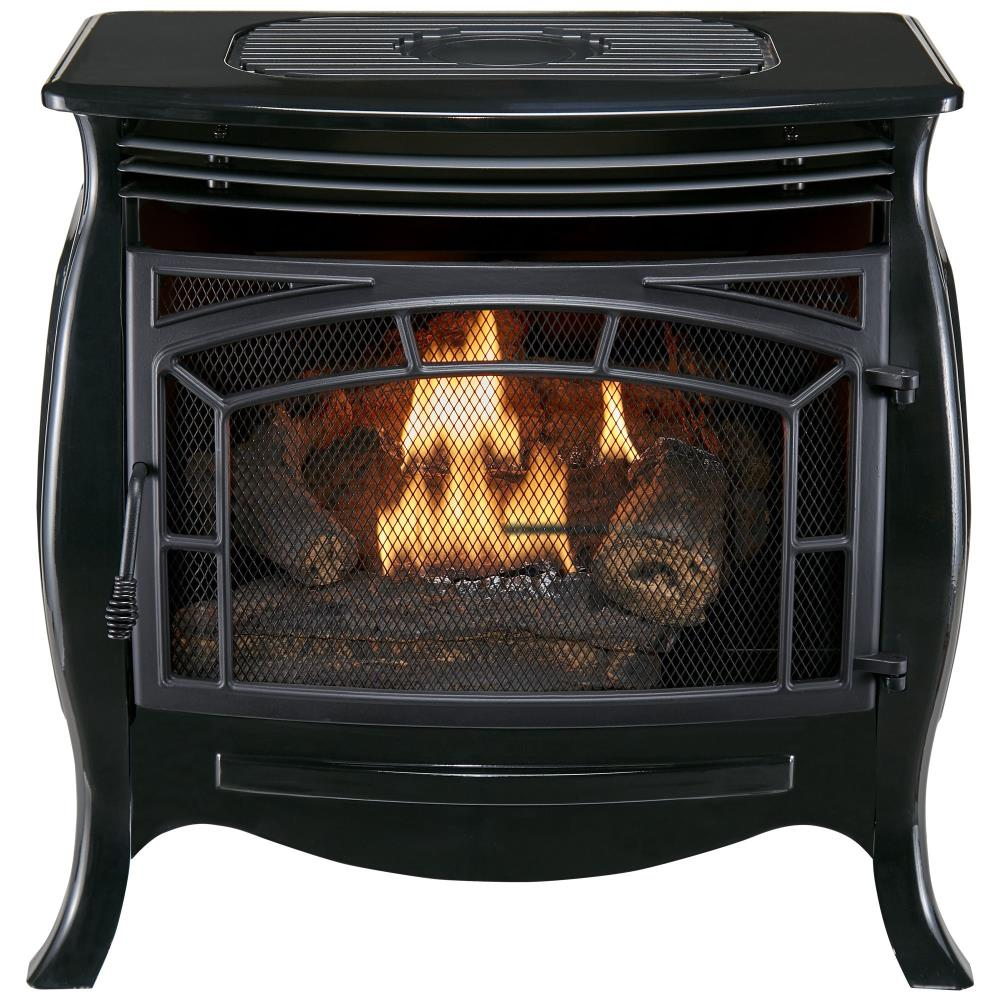stove: (52, 12, 902, 930)
